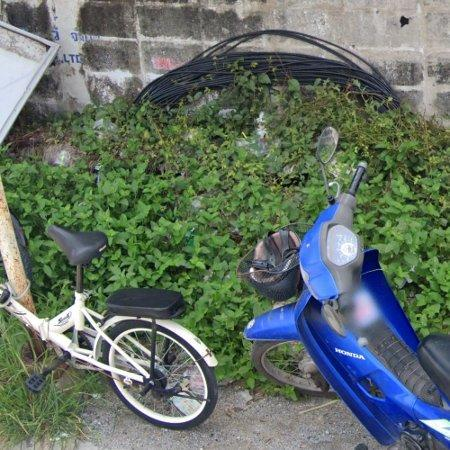motorcycles: (240, 163, 450, 450)
